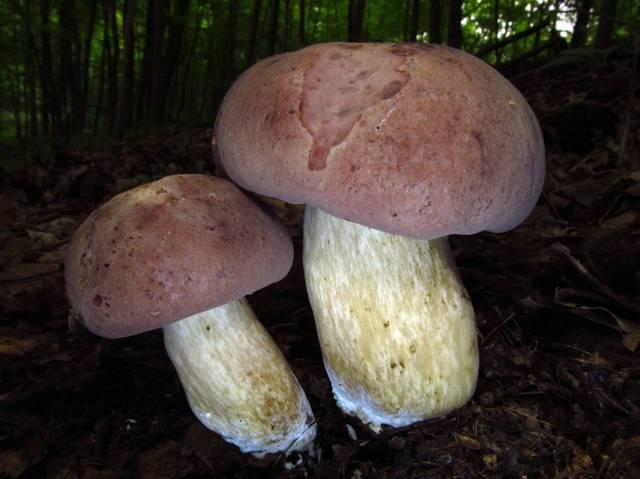Non-edible Mushroom: (210, 38, 547, 434), (62, 171, 318, 460)
